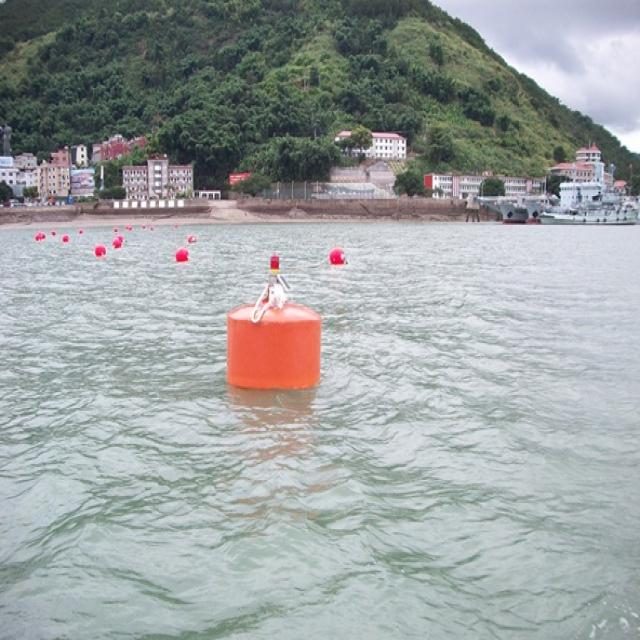buoy: (218, 254, 326, 393)
